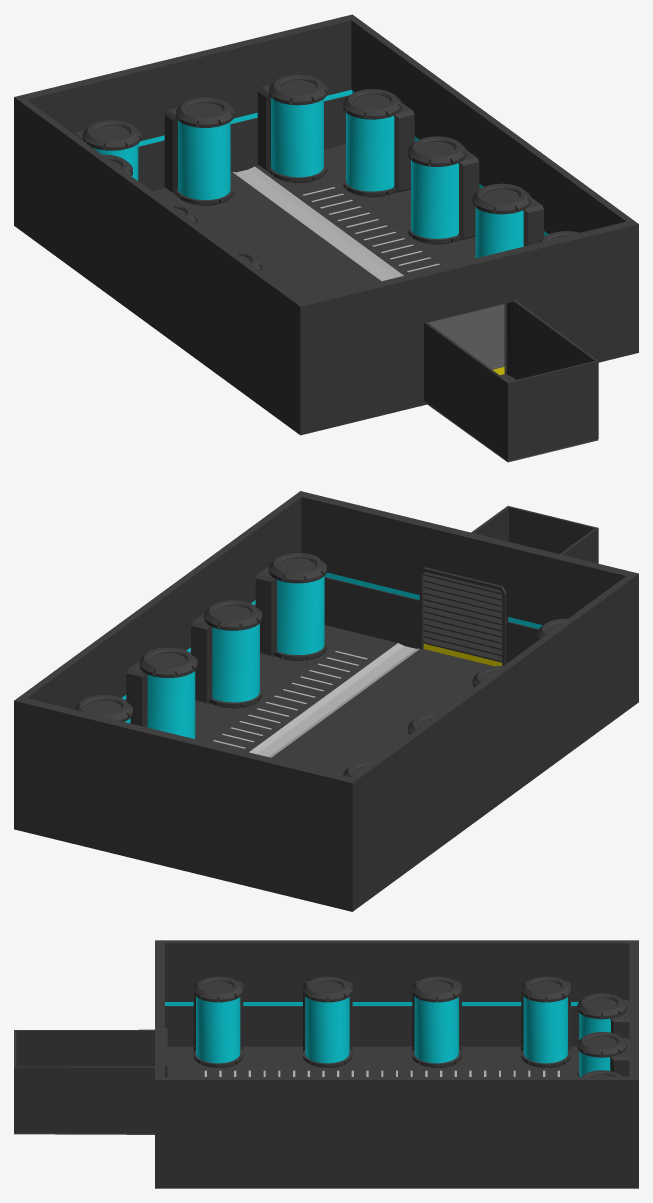
File: PodRoom (5).fbx
3 renders of one model, top to bottom at view 1: azimuth 30°, elevation 25°; view 2: azimuth 150°, elevation 25°; view 3: azimuth 270°, elevation 25°, orthographic. The views are drawn at different scales.
Visible parts, largest first — view 1: Room.011, Room, Room.006, Room.013, Room.012, Room.002, Room.009, Glass.001, Glass.009, Glass.008, Room.010, Glass.007 (+7 smaller); view 2: Room.013, Room.011, Room, Room.006, Room.012, Glass.006, Glass.005, Pod.030, Pod.025, Glass.007, Pod.035, Room.002 (+5 smaller); view 3: Room.012, Room.011, Room.010, Room.006, Room.009, Glass.002, Glass, Glass.003, Glass.004, Pod.005, Pod.010, Pod.015 (+8 smaller).
Boxes of the visible parts, x1,y1,x2,y2 form: Room.011: [14, 97, 301, 434]; Room: [300, 221, 638, 435]; Room.006: [152, 144, 506, 375]; Room.013: [15, 14, 352, 191]; Room.012: [351, 14, 638, 236]; Room.002: [508, 361, 598, 461]; Room.009: [424, 321, 508, 461]; Glass.001: [178, 120, 230, 199]; Glass.009: [271, 98, 323, 177]; Glass.008: [346, 112, 394, 191]; Room.010: [513, 300, 597, 379]; Glass.007: [411, 160, 458, 238]; Room.013: [14, 698, 352, 911]; Room.011: [351, 573, 638, 911]; Room: [300, 491, 638, 663]; Room.006: [195, 625, 493, 775]; Room.012: [14, 491, 301, 709]; Glass.006: [212, 624, 259, 702]; Glass.005: [277, 576, 324, 654]; Pod.030: [191, 600, 262, 708]; Pod.025: [255, 553, 326, 660]; Glass.007: [147, 671, 195, 738]; Pod.035: [126, 647, 197, 739]; Room.002: [508, 506, 597, 553]; Room.012: [155, 1077, 638, 1188]; Room.011: [155, 940, 638, 1046]; Room.010: [14, 1066, 154, 1133]; Room.006: [167, 1046, 579, 1076]; Room.009: [14, 1029, 154, 1066]; Glass.002: [305, 996, 349, 1063]; Glass: [196, 996, 240, 1063]; Glass.003: [414, 997, 458, 1063]; Glass.004: [523, 996, 567, 1063]; Pod.005: [193, 976, 243, 1067]; Pod.010: [303, 976, 352, 1067]; Pod.015: [412, 976, 461, 1067].
Bounding box in the file's own units: 1845 × 670 × 3494.
3 materials, 3 textured.
